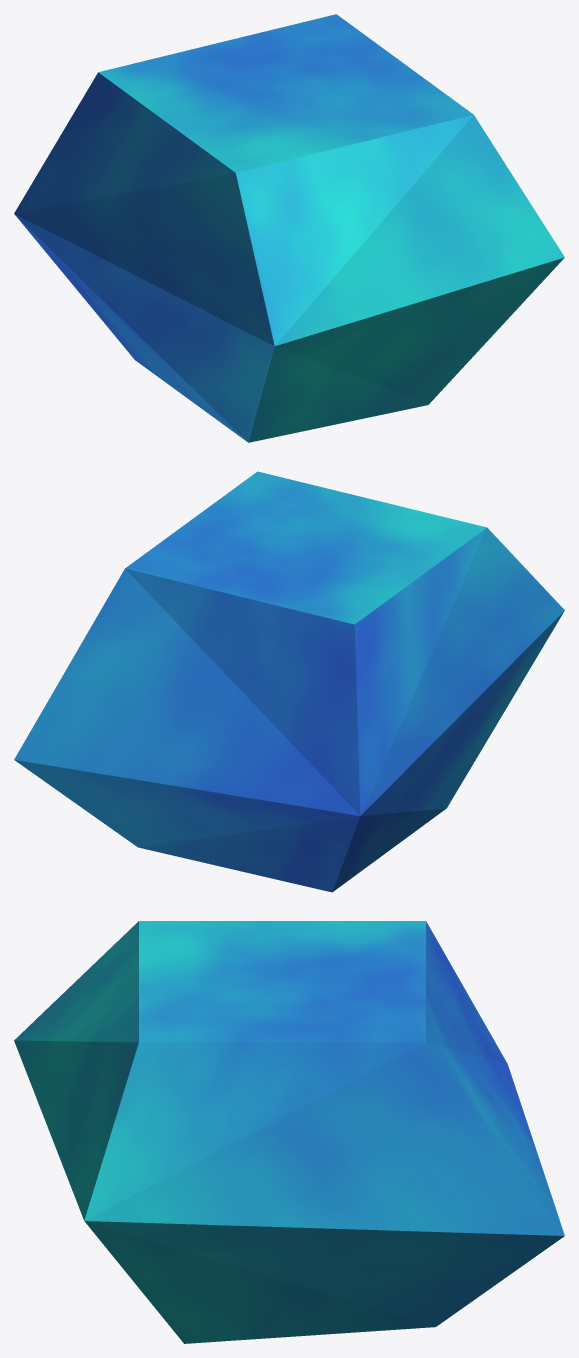
File: IceDebris.obj
3 renders of one model, top to bottom at view 1: azimuth 30°, elevation 25°; view 2: azimuth 150°, elevation 25°; view 3: azimuth 270°, elevation 25°, orthographic. The views are drawn at different scales.
Visible parts, largest first — view 1: Cube; view 2: Cube; view 3: Cube.
Part boxes in pixels (x1,y1,x2,y2): Cube: (14, 14, 564, 442); Cube: (14, 471, 564, 892); Cube: (14, 921, 564, 1343).
Size of the model in its own units: 4.99 by 4.11 by 6.55.
1 material, 1 textured.
